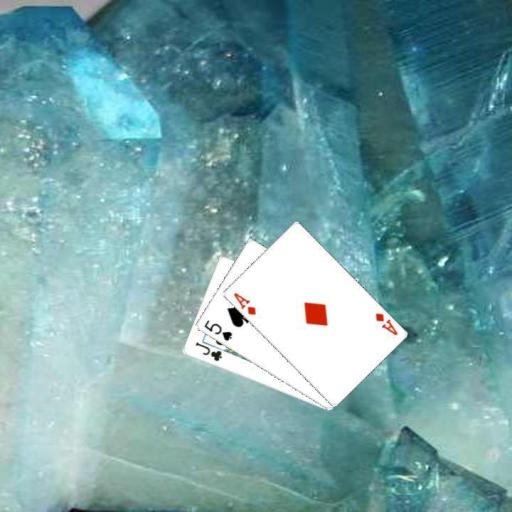card-corner: (201, 317, 233, 343), (192, 339, 223, 363), (372, 310, 399, 337), (230, 290, 258, 316)
